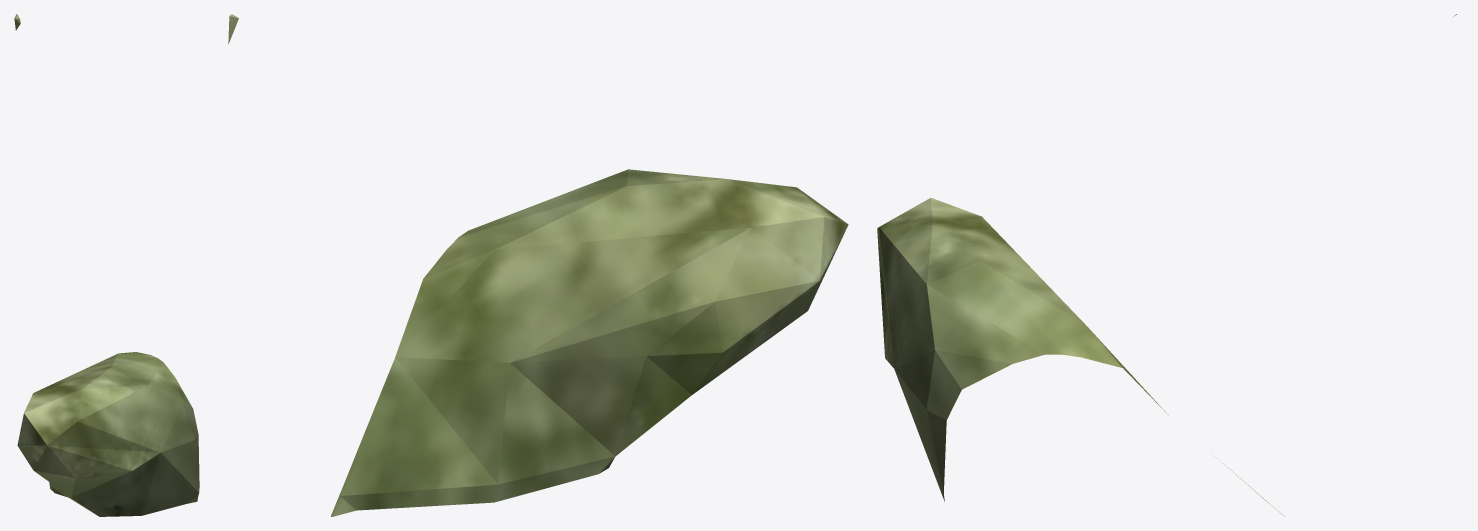
The picture shows the model from 3 angles, left to right: view 1: azimuth 30°, elevation 25°; view 2: azimuth 150°, elevation 25°; view 3: azimuth 270°, elevation 25°; orthographic projection. The views are drawn at different scales.
Size of the model in its own units: 0.4693 by 0.8758 by 0.9258.
1 material, 1 textured.
